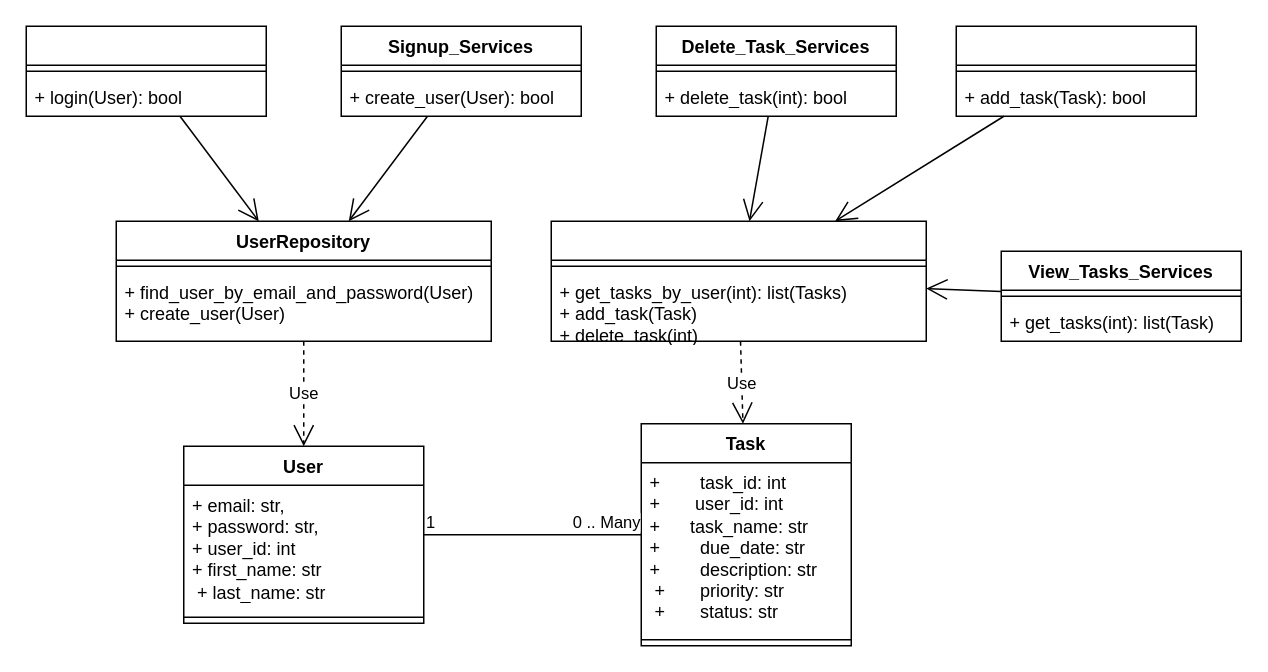
This 1268x672 diagram has some shape labels left out. The shapes that lost their labels are listed below. From the top down, each one's box as (x1, y1, x2, y2) in pixels, then its label:
(25, 25, 266, 116): Login_Services
(955, 25, 1196, 116): Add_Task_Services
(550, 220, 926, 341): TaskRepository
